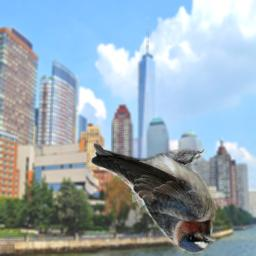Swallow: (89, 141, 219, 255)
